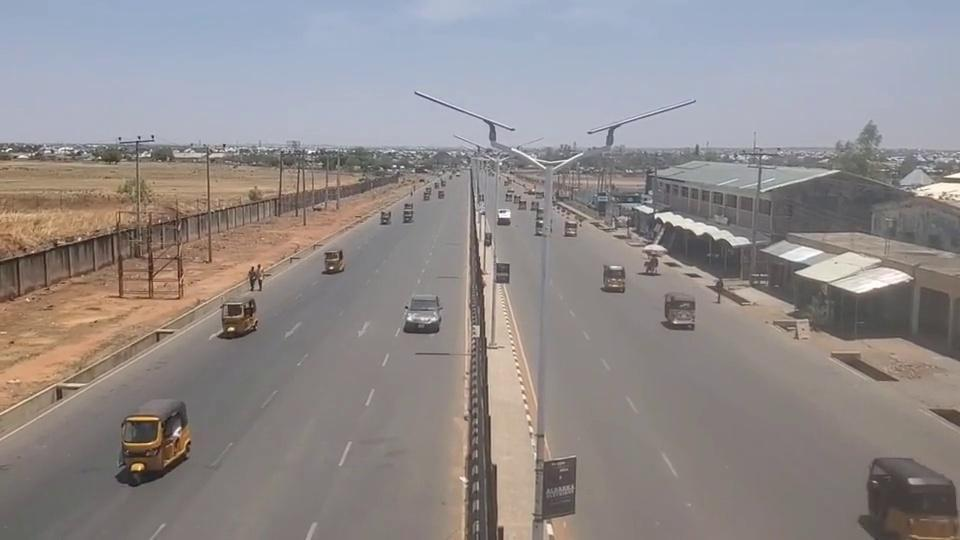car: (403, 293, 444, 332), (497, 208, 512, 224)
keke: (865, 455, 958, 539), (117, 397, 191, 477), (219, 298, 258, 337), (663, 293, 696, 329), (602, 264, 626, 292), (323, 249, 345, 274), (564, 220, 578, 237), (380, 210, 391, 225), (535, 215, 544, 233)
